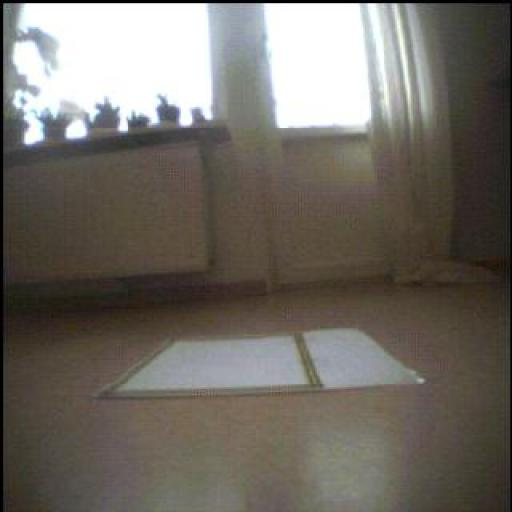Pad: (101, 331, 424, 398)
